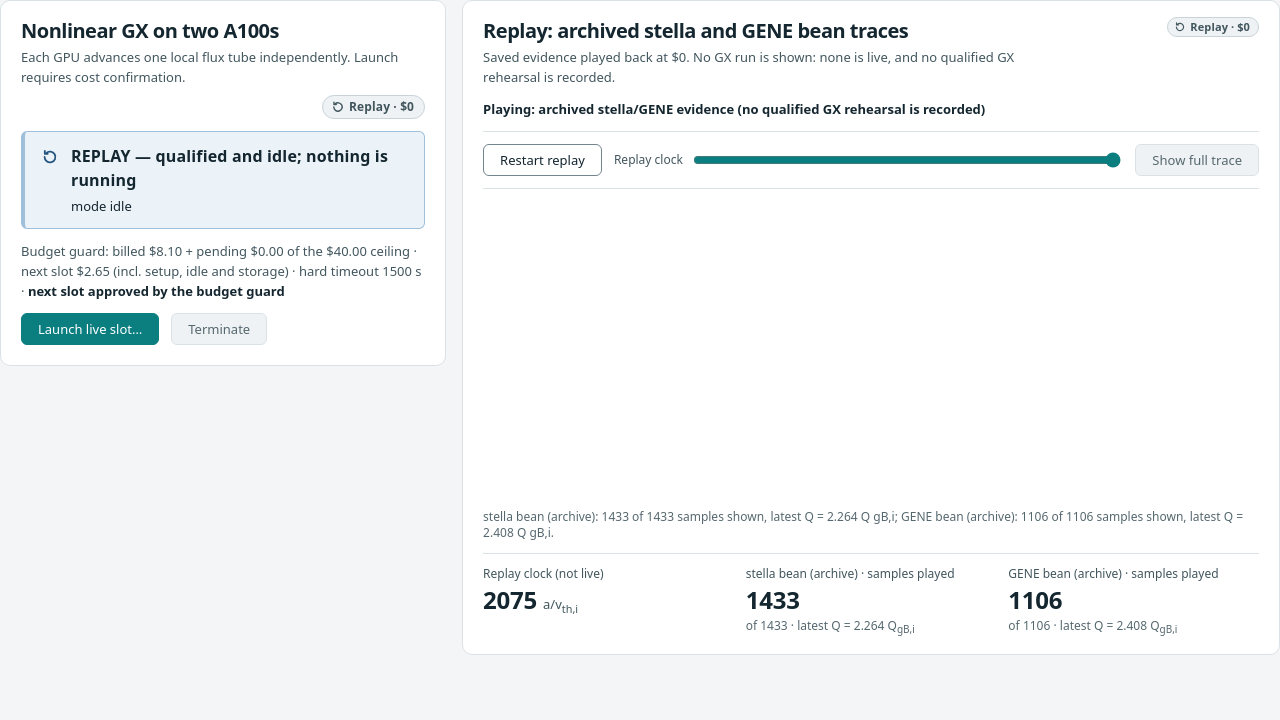
Scenario: L10 FA-4 a launch with no answer and no status either is a lost connection: alert, Terminate, Launch disabled
What coordinates should you click on to do the following:
click the button "Launch live slot…"
I would click on:
 (90, 329)
Its box is [21,313,159,345].
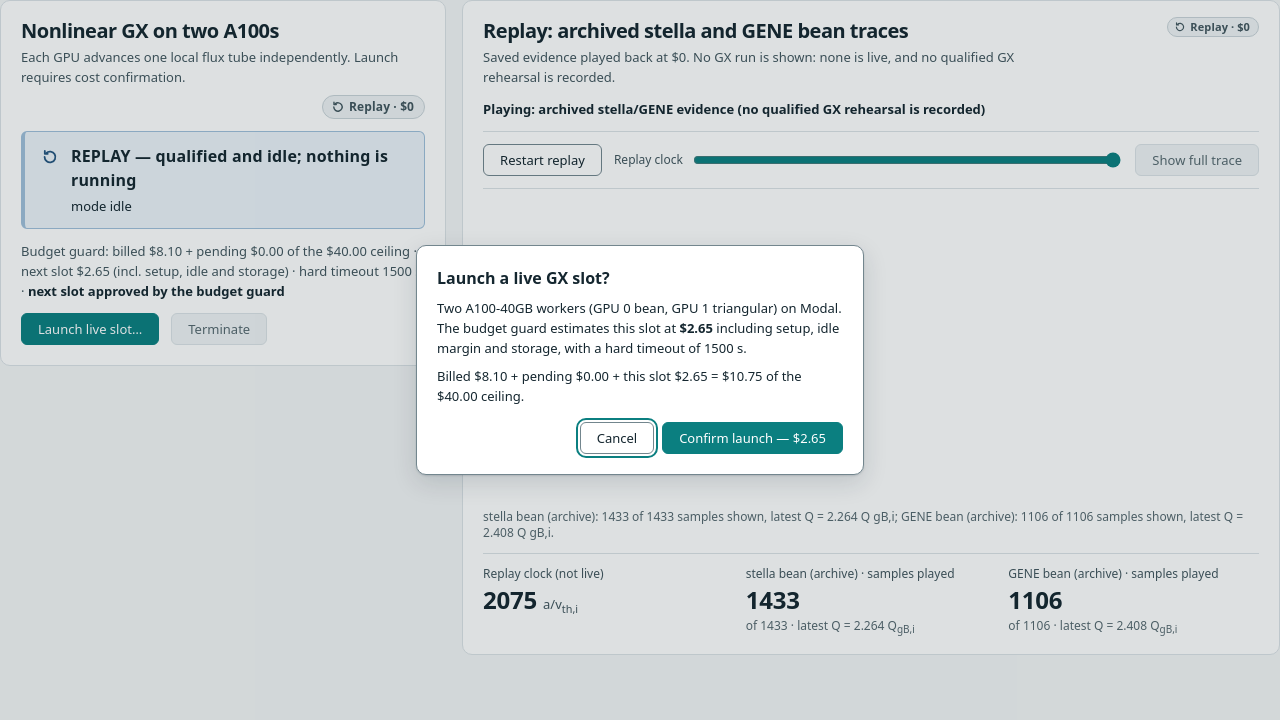
What coordinates should you click on to do the following:
click the button "Confirm launch — $2.65"
I would click on:
 (753, 438)
Its box is [662,422,843,454].
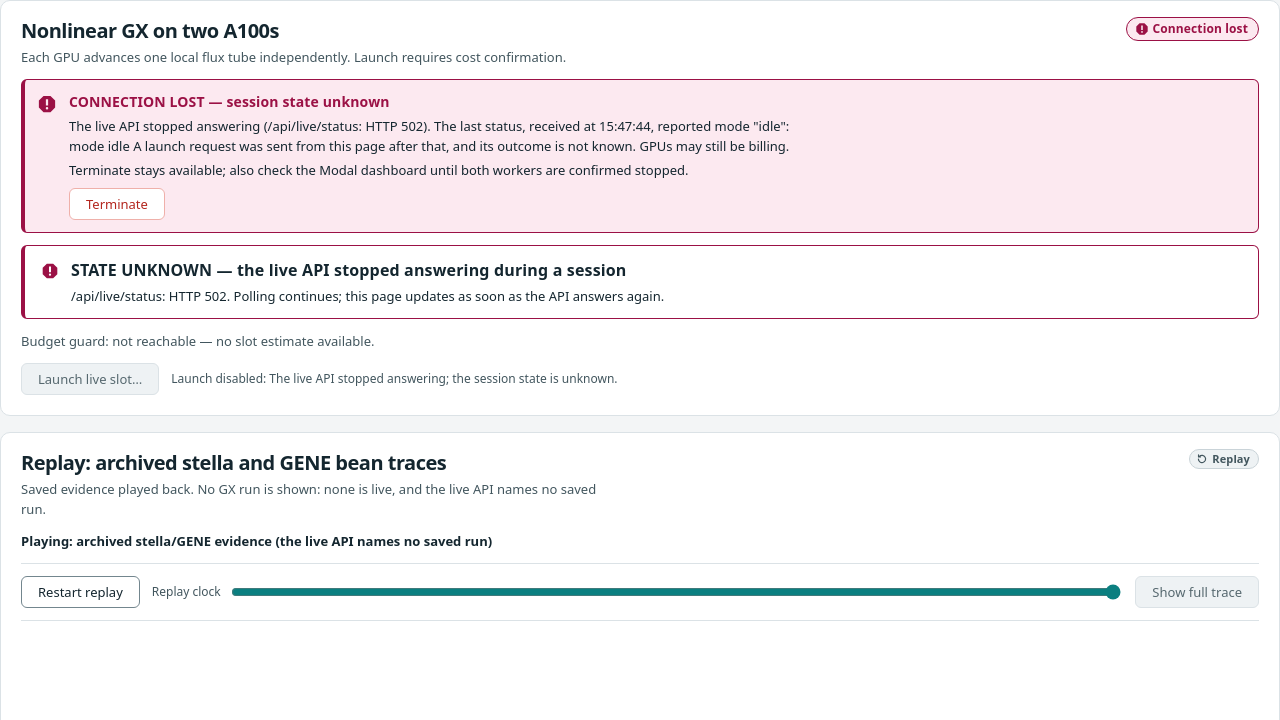
Now the button "Launch live slot…" is disabled, box [21,363,159,395]
